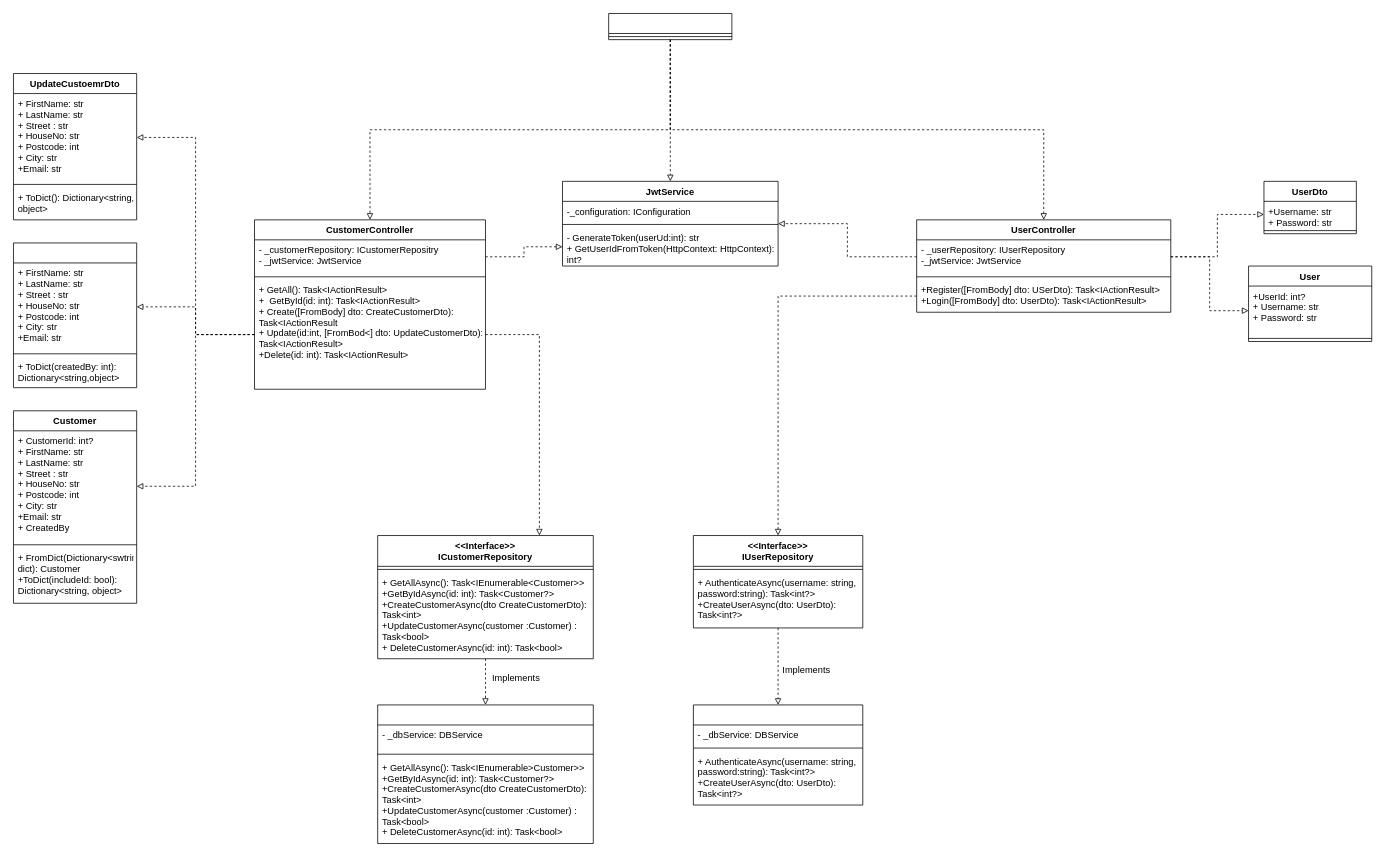
Some shapes in this 1385 by 859 pixel diagram are drawn without their labels. The shapes that lost their labels are listed below. From the top down, each one's box as (x1, y1, x2, y2) in pixels, then its label:
(608, 13, 732, 40): Program
(13, 242, 137, 388): CreateCustomerDto
(377, 704, 593, 844): CustomerReporistory
(693, 704, 863, 805): UserRepository
